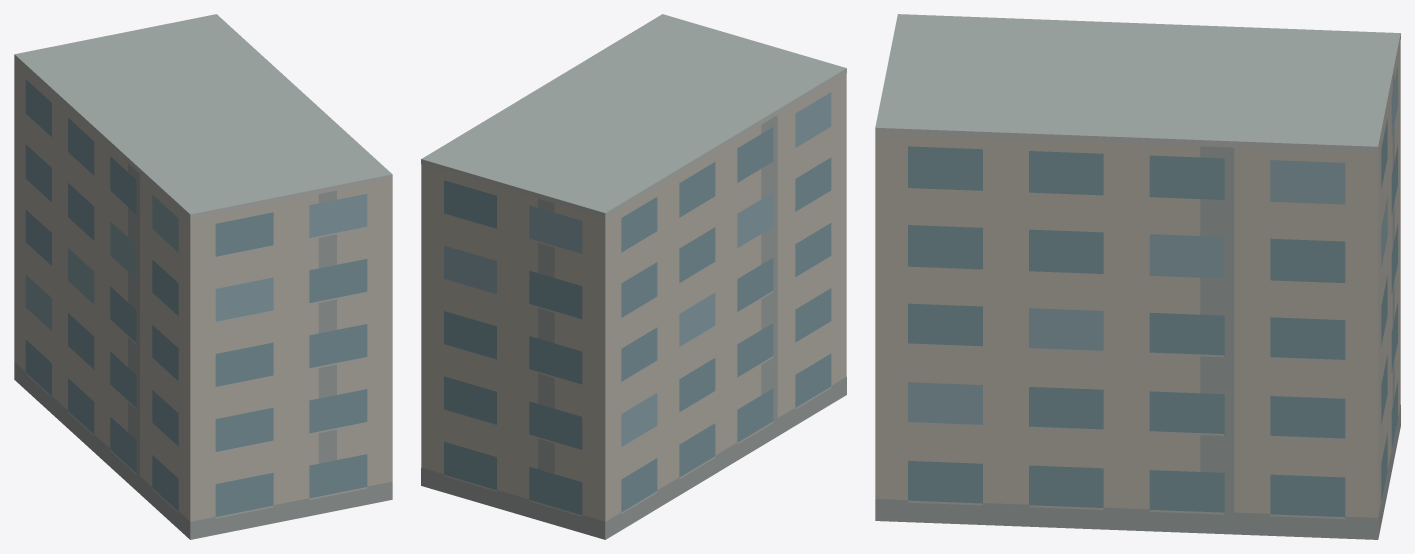
File: survey-upis-32764966.glb
3 views of the same model, side by side, from view 1: azimuth 30°, elevation 25°; view 2: azimuth 150°, elevation 25°; view 3: azimuth 270°, elevation 25° (orthographic). The views are drawn at different scales.
Visible parts, largest first — view 1: survey-upis-32764966.tmp; view 2: survey-upis-32764966.tmp; view 3: survey-upis-32764966.tmp.
Boxes of the visible parts, box(x1,y1,x2,y2) form: survey-upis-32764966.tmp: box(14, 14, 392, 539); survey-upis-32764966.tmp: box(421, 14, 846, 539); survey-upis-32764966.tmp: box(875, 14, 1400, 539).
Bounding box in the file's own units: 11.05 × 15.25 × 18.48.
